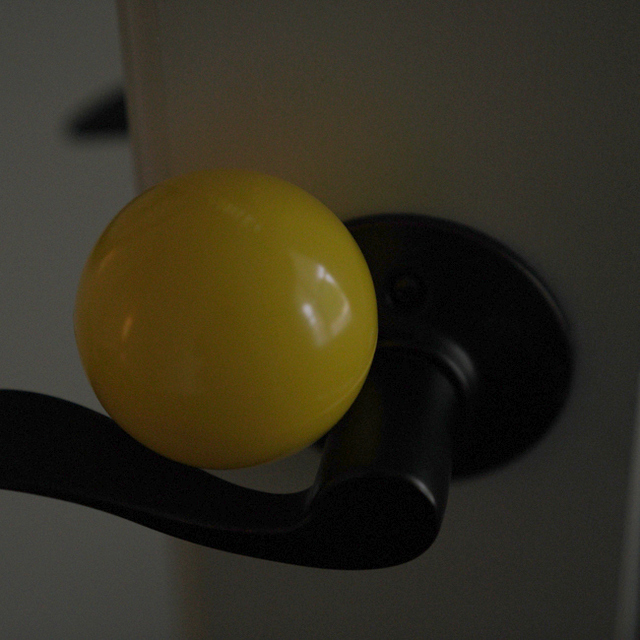Ball: (73, 170, 378, 469)
